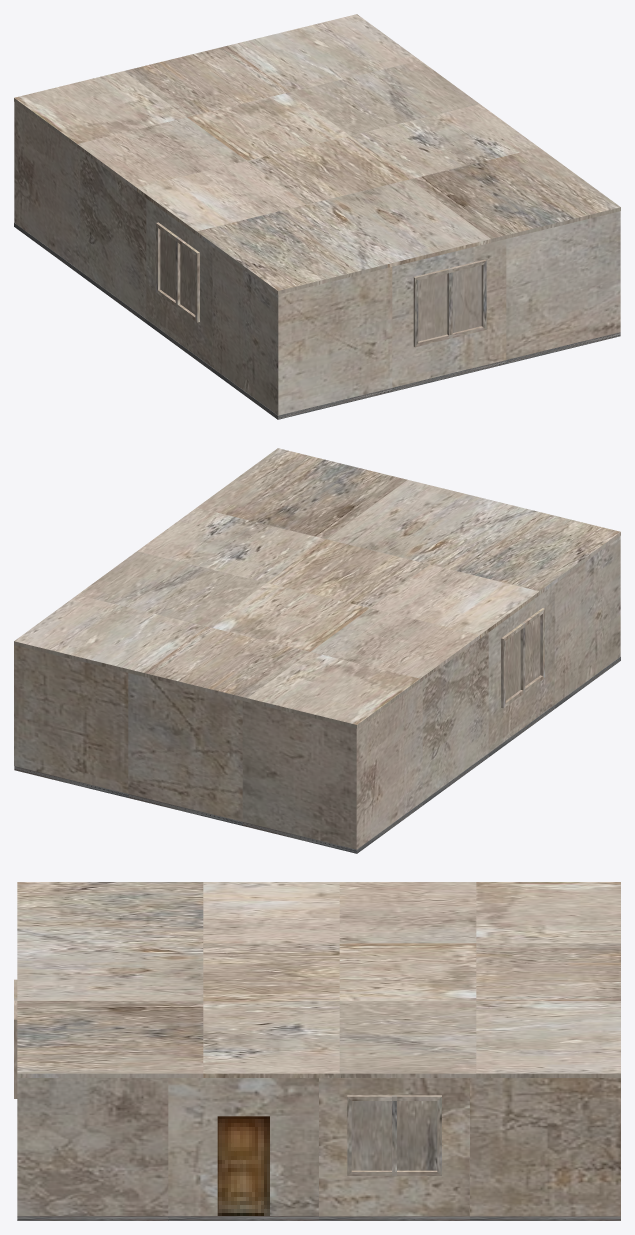
The model's file is AraştırmaYeri.fbx.
3 renders of one model, top to bottom at view 1: azimuth 30°, elevation 25°; view 2: azimuth 150°, elevation 25°; view 3: azimuth 270°, elevation 25°, orthographic. The views are drawn at different scales.
Parts seen in each view (by area): view 1: tavan, duvar2.001, zemin.002; view 2: tavan, duvar2.001, zemin.002; view 3: tavan, duvar2.001, Cube.056, zemin.002.
Boxes of the visible parts, x1=… form: tavan: x1=14, y1=14, x2=620, y2=294; duvar2.001: x1=14, y1=102, x2=620, y2=415; zemin.002: x1=14, y1=222, x2=620, y2=419; tavan: x1=14, y1=448, x2=620, y2=728; duvar2.001: x1=14, y1=536, x2=620, y2=849; zemin.002: x1=14, y1=656, x2=620, y2=853; tavan: x1=17, y1=882, x2=620, y2=1077; duvar2.001: x1=14, y1=979, x2=620, y2=1216; Cube.056: x1=217, y1=1116, x2=269, y2=1215; zemin.002: x1=17, y1=1216, x2=620, y2=1220.
Bounding box in the file's own units: 706 × 250 × 933.
19 materials, 16 textured.
